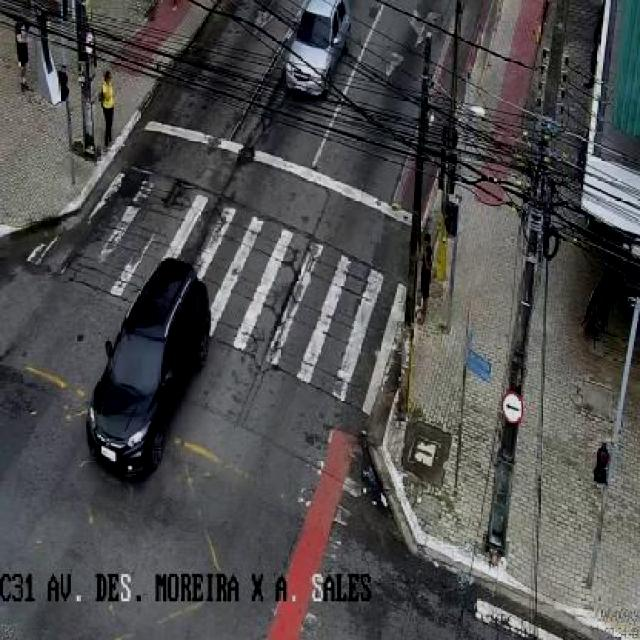Car: (86, 255, 212, 478), (282, 0, 352, 99)
